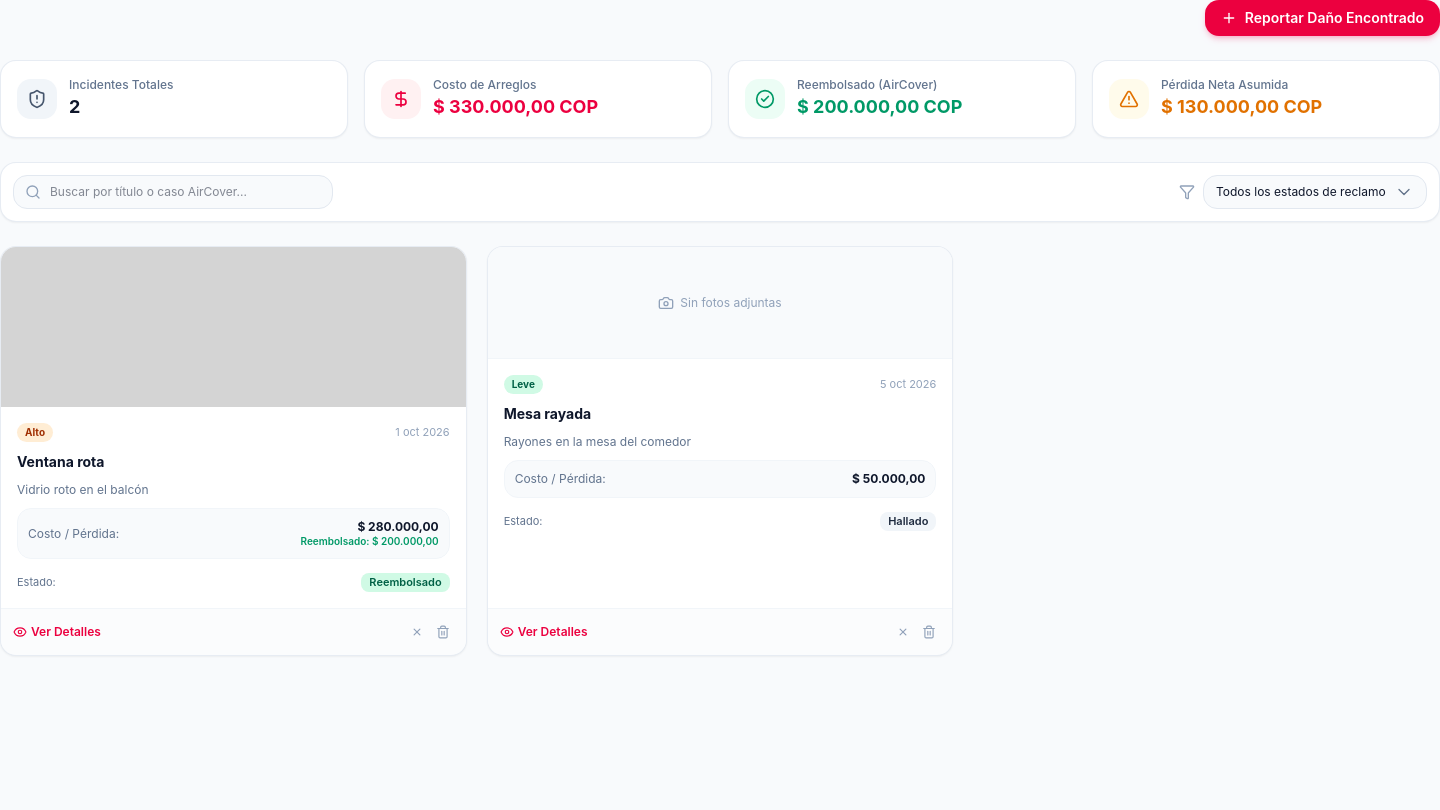
Test case: Damages route › opens report damage modal when clicking button
What coordinates should you click on to do the following:
click the button "Reportar Daño Encontrado"
I would click on:
 (1322, 18)
Its box is [1205,0,1439,36].
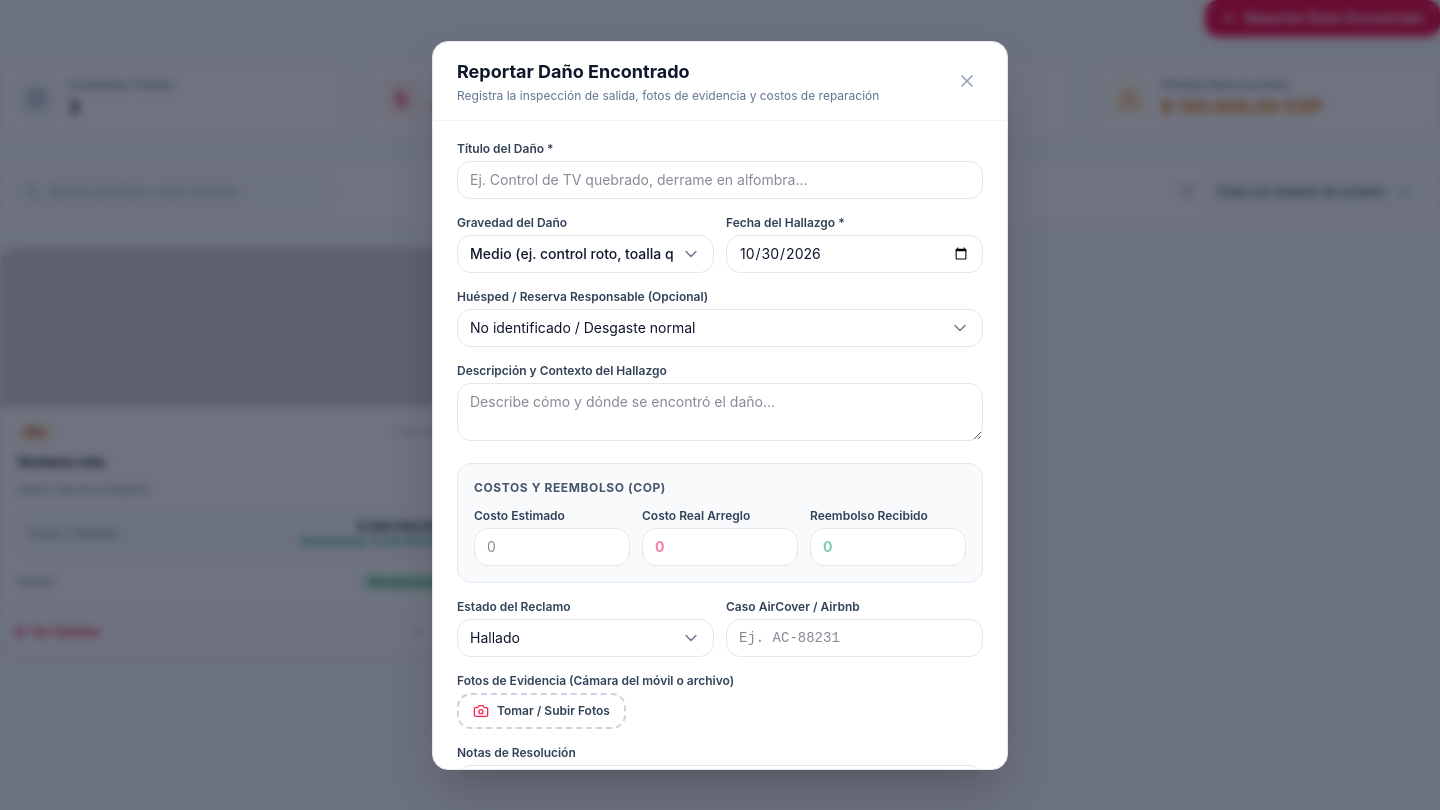
Expected: the text "Registra la inspección de salida" is shown, [457,88,879,102]
